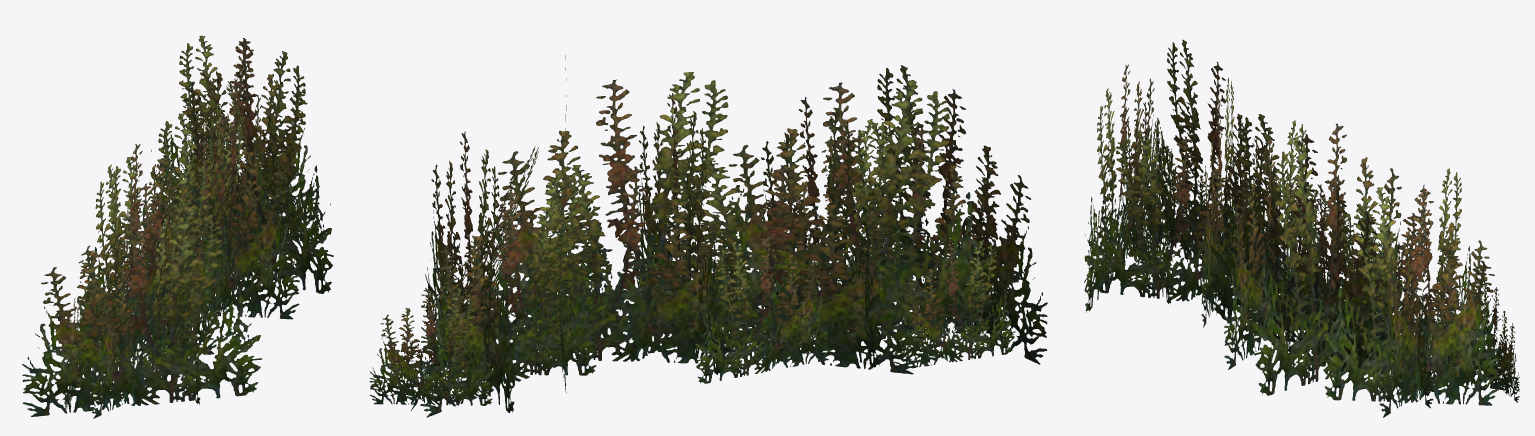
Rendered from wm_灌木小灌木03.fbx.
3 renders of one model, left to right at view 1: azimuth 30°, elevation 25°; view 2: azimuth 150°, elevation 25°; view 3: azimuth 270°, elevation 25°, orthographic. The views are drawn at different scales.
Parts seen in each view (by area): view 1: wm_灌木小灌木03; view 2: wm_灌木小灌木03; view 3: wm_灌木小灌木03.
Boxes of the visible parts, left/top/right/bottom form: wm_灌木小灌木03: left=22, top=35, right=333, bottom=418; wm_灌木小灌木03: left=369, top=55, right=1047, bottom=417; wm_灌木小灌木03: left=1084, top=39, right=1519, bottom=417.
Bounding box in the file's own units: 277 × 162 × 245.
